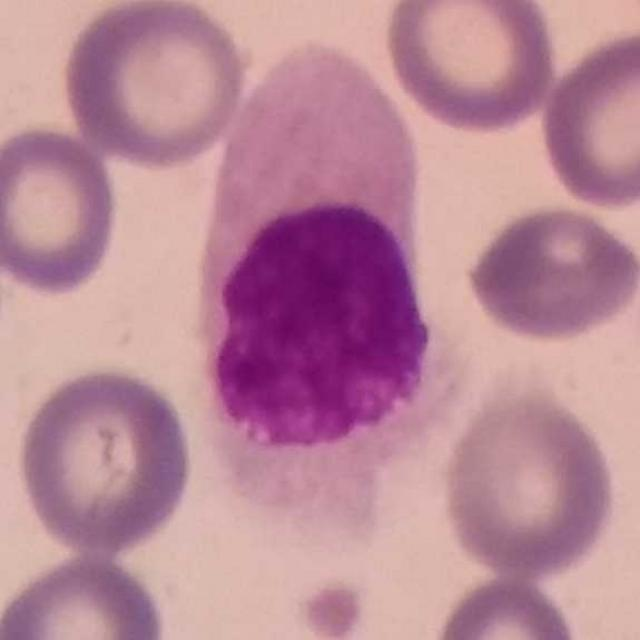Monocyte: (198, 33, 437, 544)
Platelets: (300, 582, 370, 640)
RBC: (434, 382, 622, 581), (11, 360, 199, 558), (54, 0, 252, 171), (459, 200, 640, 346), (378, 0, 561, 136), (0, 122, 125, 298), (534, 24, 640, 212), (0, 551, 171, 640), (428, 571, 584, 640)
